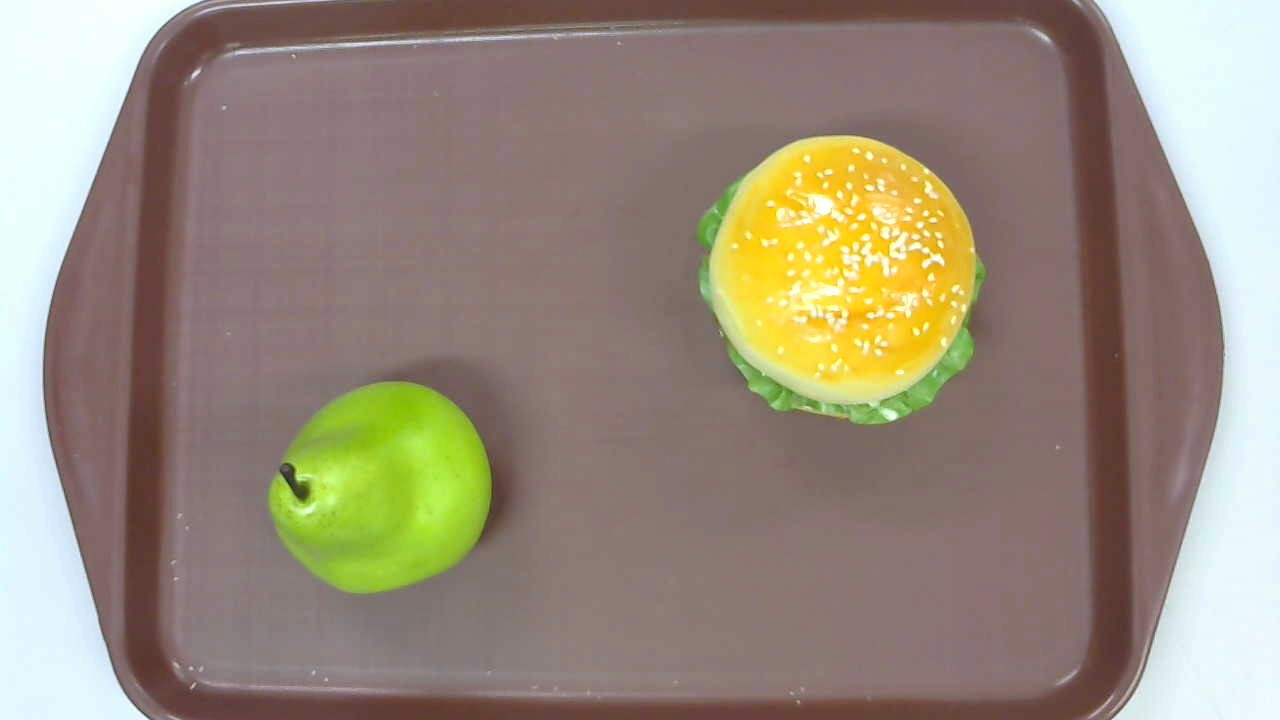green pear: (266, 380, 493, 592)
hamburger: (696, 134, 985, 425)
